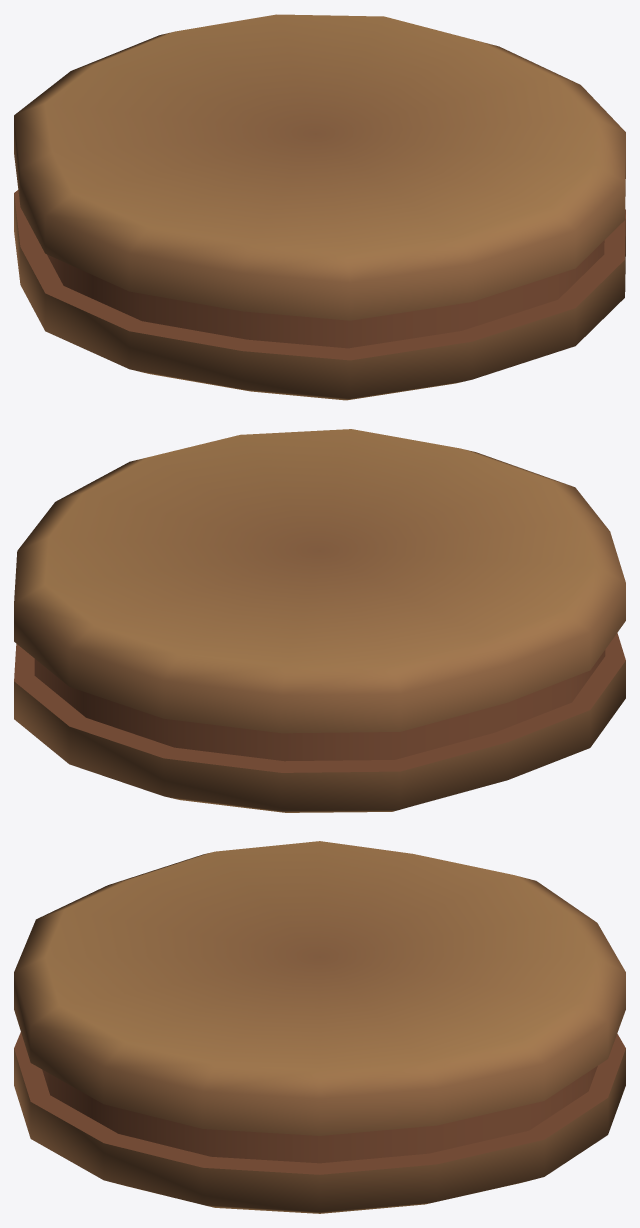
The model's file is SandwichCookie_Regular.fbx.
3 renders of one model, top to bottom at view 1: azimuth 30°, elevation 25°; view 2: azimuth 150°, elevation 25°; view 3: azimuth 270°, elevation 25°, orthographic. The views are drawn at different scales.
Parts seen in each view (by area): view 1: SandwichCookie_Regular; view 2: SandwichCookie_Regular; view 3: SandwichCookie_Regular.
Boxes of the visible parts, left/top/right/bottom form: SandwichCookie_Regular: left=14, top=14, right=625, bottom=400; SandwichCookie_Regular: left=14, top=429, right=625, bottom=812; SandwichCookie_Regular: left=14, top=841, right=625, bottom=1213.
Bounding box in the file's own units: 26.51 × 6.93 × 26.8.
